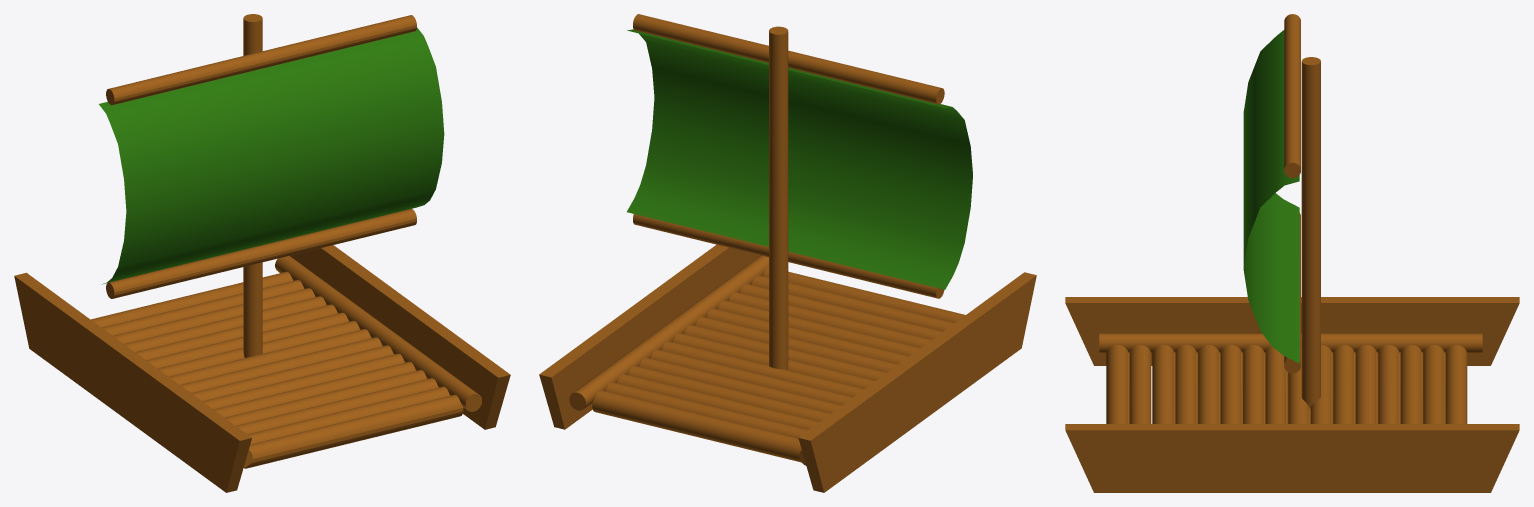
File: Model_Builder.fbx
The picture shows the model from 3 angles, left to right: view 1: azimuth 30°, elevation 25°; view 2: azimuth 150°, elevation 25°; view 3: azimuth 270°, elevation 25°; orthographic projection.
Visible parts, largest first — view 1: Buider Unit, Object001; view 2: Buider Unit, Object001; view 3: Buider Unit, Object001.
Boxes of the visible parts, box(x1,y1,x2,y2) form: Buider Unit: box(14, 14, 510, 492); Object001: box(99, 27, 444, 284); Buider Unit: box(539, 14, 1036, 492); Object001: box(627, 29, 972, 289); Buider Unit: box(1065, 14, 1519, 492); Object001: box(1243, 30, 1299, 363).
Bounding box in the file's own units: 80.89 × 88.28 × 99.44.
